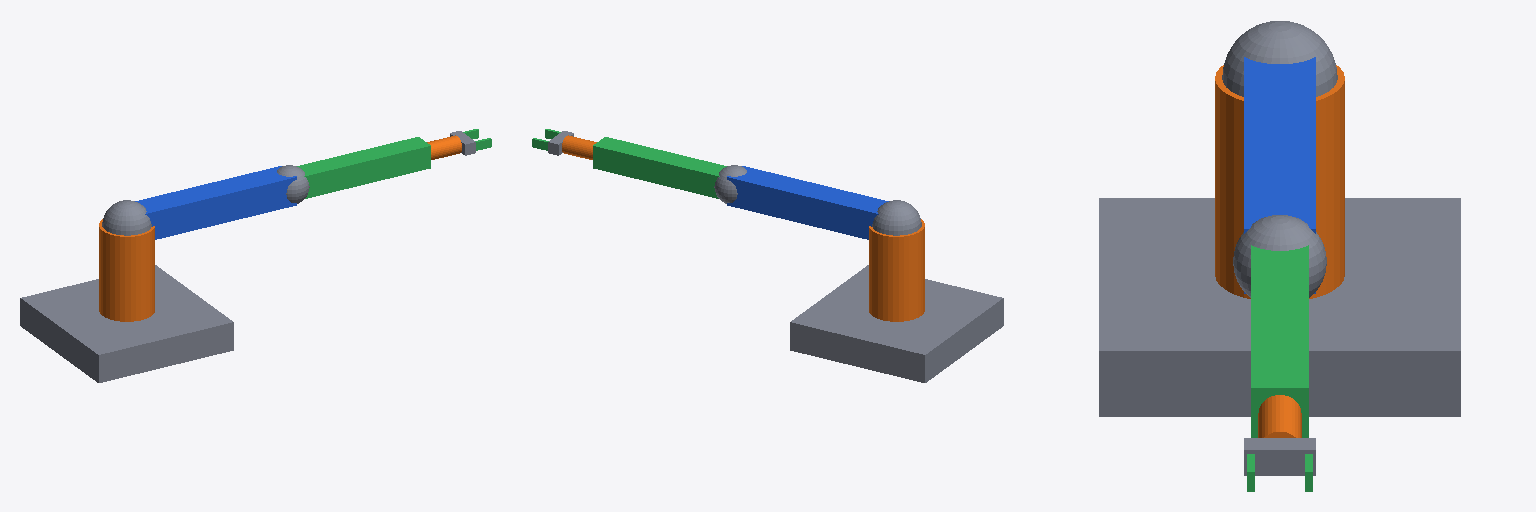
URDF robot description (sample_arm_gripper):
<?xml version="1.0"?>
<!-- 뷰어 확인용 예제: arm.urdf 끝에 fixed 관절(hand)과 mimic 관절(오른쪽 손가락)이 달린 그리퍼를 붙인 것. 질량/관성은 중력 토크 확인용 대략값 -->
<robot name="sample_arm_gripper">
  <material name="gray"><color rgba="0.55 0.57 0.62 1"/></material>
  <material name="orange"><color rgba="0.95 0.5 0.15 1"/></material>
  <material name="blue"><color rgba="0.2 0.45 0.9 1"/></material>
  <material name="green"><color rgba="0.25 0.75 0.4 1"/></material>

  <link name="base_link">
    <inertial>
      <origin xyz="0 0 0.05"/>
      <mass value="5.0"/>
      <inertia ixx="0.1083" ixy="0" ixz="0" iyy="0.1083" iyz="0" izz="0.2083"/>
    </inertial>
    <visual>
      <origin xyz="0 0 0.05"/>
      <geometry><box size="0.5 0.5 0.1"/></geometry>
      <material name="gray"/>
    </visual>
  </link>

  <link name="shoulder">
    <inertial>
      <origin xyz="0 0 0.15"/>
      <mass value="1.5"/>
      <inertia ixx="0.0127" ixy="0" ixz="0" iyy="0.0127" iyz="0" izz="0.0061"/>
    </inertial>
    <visual>
      <origin xyz="0 0 0.15"/>
      <geometry><cylinder radius="0.09" length="0.3"/></geometry>
      <material name="orange"/>
    </visual>
  </link>
  <joint name="base_yaw" type="revolute">
    <parent link="base_link"/><child link="shoulder"/>
    <origin xyz="0 0 0.1"/>
    <axis xyz="0 0 1"/>
    <limit lower="-3.14" upper="3.14" effort="50" velocity="2"/>
    <dynamics damping="0.5" friction="0.1"/>
  </joint>

  <link name="upper_arm">
    <inertial>
      <origin xyz="0.3 0 0"/>
      <mass value="1.2"/>
      <inertia ixx="0.002" ixy="0" ixz="0" iyy="0.037" iyz="0" izz="0.037"/>
    </inertial>
    <visual>
      <origin xyz="0.3 0 0"/>
      <geometry><box size="0.6 0.1 0.1"/></geometry>
      <material name="blue"/>
    </visual>
    <visual>
      <geometry><sphere radius="0.08"/></geometry>
      <material name="gray"/>
    </visual>
  </link>
  <joint name="shoulder_pitch" type="revolute">
    <parent link="shoulder"/><child link="upper_arm"/>
    <origin xyz="0 0 0.3"/>
    <axis xyz="0 1 0"/>
    <limit lower="-1.57" upper="1.57" effort="50" velocity="2"/>
  </joint>

  <link name="forearm">
    <inertial>
      <origin xyz="0.25 0 0"/>
      <mass value="0.8"/>
      <inertia ixx="0.0009" ixy="0" ixz="0" iyy="0.0172" iyz="0" izz="0.0172"/>
    </inertial>
    <visual>
      <origin xyz="0.25 0 0"/>
      <geometry><box size="0.5 0.08 0.08"/></geometry>
      <material name="green"/>
    </visual>
    <visual>
      <geometry><sphere radius="0.065"/></geometry>
      <material name="gray"/>
    </visual>
  </link>
  <joint name="elbow_pitch" type="revolute">
    <parent link="upper_arm"/><child link="forearm"/>
    <origin xyz="0.6 0 0"/>
    <axis xyz="0 1 0"/>
    <limit lower="-2.4" upper="2.4" effort="30" velocity="2"/>
  </joint>

  <link name="tool">
    <inertial>
      <origin xyz="0.06 0 0"/>
      <mass value="0.3"/>
      <inertia ixx="0.00014" ixy="0" ixz="0" iyy="0.00039" iyz="0" izz="0.00039"/>
    </inertial>
    <visual>
      <origin xyz="0.06 0 0" rpy="0 1.5707963 0"/>
      <geometry><cylinder radius="0.03" length="0.12"/></geometry>
      <material name="orange"/>
    </visual>
  </link>
  <joint name="wrist_roll" type="continuous">
    <parent link="forearm"/><child link="tool"/>
    <origin xyz="0.5 0 0"/>
    <axis xyz="1 0 0"/>
  </joint>

  <!-- 그리퍼: tool 끝에 fixed 로 손(hand)을 붙이고, 손가락 두 개는 prismatic 이며 오른쪽이 왼쪽을 mimic 한다 -->
  <link name="hand">
    <inertial>
      <origin xyz="0.02 0 0"/>
      <mass value="0.2"/>
      <inertia ixx="0.0001" ixy="0" ixz="0" iyy="0.0002" iyz="0" izz="0.0002"/>
    </inertial>
    <visual>
      <origin xyz="0.02 0 0"/>
      <geometry><box size="0.04 0.1 0.04"/></geometry>
      <material name="gray"/>
    </visual>
  </link>
  <joint name="tool_mount" type="fixed">
    <parent link="tool"/><child link="hand"/>
    <origin xyz="0.12 0 0"/>
  </joint>

  <link name="finger_left">
    <inertial>
      <origin xyz="0.03 0 0"/>
      <mass value="0.05"/>
      <inertia ixx="0.00001" ixy="0" ixz="0" iyy="0.00001" iyz="0" izz="0.00001"/>
    </inertial>
    <visual>
      <origin xyz="0.03 0 0"/>
      <geometry><box size="0.06 0.01 0.03"/></geometry>
      <material name="green"/>
    </visual>
  </link>
  <joint name="finger_left_slide" type="prismatic">
    <parent link="hand"/><child link="finger_left"/>
    <origin xyz="0.04 0.04 0"/>
    <axis xyz="0 -1 0"/>
    <limit lower="0" upper="0.03" effort="10" velocity="0.1"/>
  </joint>

  <link name="finger_right">
    <inertial>
      <origin xyz="0.03 0 0"/>
      <mass value="0.05"/>
      <inertia ixx="0.00001" ixy="0" ixz="0" iyy="0.00001" iyz="0" izz="0.00001"/>
    </inertial>
    <visual>
      <origin xyz="0.03 0 0"/>
      <geometry><box size="0.06 0.01 0.03"/></geometry>
      <material name="green"/>
    </visual>
  </link>
  <joint name="finger_right_slide" type="prismatic">
    <parent link="hand"/><child link="finger_right"/>
    <origin xyz="0.04 -0.04 0"/>
    <axis xyz="0 1 0"/>
    <limit lower="0" upper="0.03" effort="10" velocity="0.1"/>
    <mimic joint="finger_left_slide" multiplier="1" offset="0"/>
  </joint>
</robot>

--- What the picture shows (computed from the rendered views, not written in the file) ---
The picture shows the robot from 3 angles, left to right: view 1: azimuth 30°, elevation 25°; view 2: azimuth 150°, elevation 25°; view 3: azimuth 270°, elevation 25°; orthographic projection.
Model sample_arm_gripper with 8 links and 7 joints (3 revolute, 1 continuous, 2 prismatic, 1 fixed), rooted at base_link, posed all joints at 0.
Links seen in each view (by area): view 1: base_link, upper_arm, forearm, shoulder, tool; view 2: base_link, upper_arm, forearm, shoulder, tool; view 3: base_link, upper_arm, forearm, shoulder, hand, tool.
Boxes of the visible links, <box> form: base_link: <box>20,265,233,382</box>; upper_arm: <box>102,166,296,239</box>; forearm: <box>277,137,430,203</box>; shoulder: <box>99,219,154,321</box>; tool: <box>427,135,461,159</box>; base_link: <box>790,265,1003,382</box>; upper_arm: <box>727,166,921,239</box>; forearm: <box>593,137,746,203</box>; shoulder: <box>869,219,924,321</box>; tool: <box>562,135,596,159</box>; base_link: <box>1099,198,1460,416</box>; upper_arm: <box>1222,21,1337,293</box>; forearm: <box>1233,215,1326,437</box>; shoulder: <box>1215,65,1344,298</box>; hand: <box>1244,438,1315,475</box>; tool: <box>1258,395,1301,437</box>.
Size in the robot's own frame: 1.57 by 0.5 by 0.48 metres.
Geometry: primitives only (box / cylinder / sphere), no mesh files.
